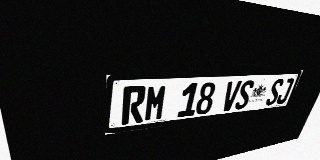1: (177, 83, 201, 118)
8: (194, 82, 218, 115)
J: (275, 78, 295, 104)
M: (143, 84, 168, 122)
R: (121, 85, 147, 125)
S: (234, 80, 255, 110), (264, 78, 285, 106)
V: (220, 81, 242, 112)
